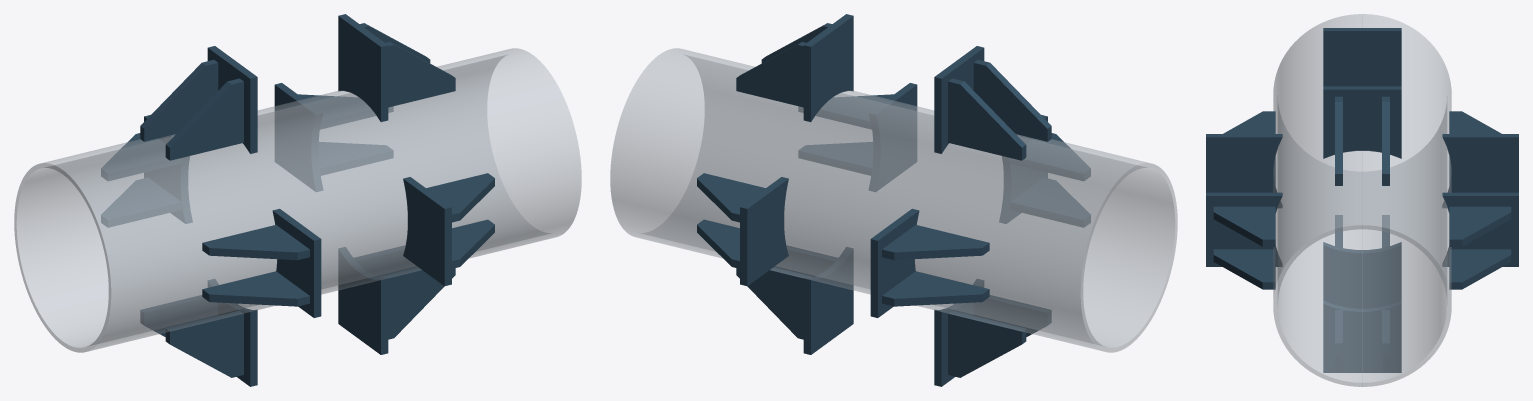
Rendered from TS-661.00.00-03-opora-dn273-ris1.glb.
The picture shows the model from 3 angles, left to right: view 1: azimuth 30°, elevation 25°; view 2: azimuth 150°, elevation 25°; view 3: azimuth 270°, elevation 25°; orthographic projection. The views are drawn at different scales.
Parts seen in each view (by area): view 1: truba, upor_1, upor_13, upor_7, upor_19, upor_6, upor_17, upor_5, upor_3, upor_10, upor_11, upor_12 (+12 smaller); view 2: truba, upor_1, upor_13, upor_19, upor_7, upor_5, upor_18, upor_6, upor_2, upor_22, upor_24, upor_23 (+12 smaller); view 3: truba, upor_16, upor_4, upor_1, upor_13, upor_10, upor_22, upor_7, upor_19, upor_8, upor_21, upor_9 (+7 smaller).
Part boxes in pixels (x1,y1,x2,y2): truba: (14,48,581,352); upor_1: (338,14,388,122); upor_13: (338,247,388,354); upor_7: (403,177,451,286); upor_19: (274,83,322,191); upor_6: (165,78,243,160); upor_17: (165,310,243,377); upor_5: (140,60,218,141); upor_3: (385,42,455,107); upor_10: (272,208,321,317); upor_11: (202,225,309,260); upor_12: (202,271,309,306); truba: (610,48,1177,352); upor_1: (803,14,853,122); upor_13: (803,247,853,354); upor_19: (740,177,788,286); upor_7: (869,83,917,191); upor_5: (948,78,1026,160); upor_18: (948,310,1026,377); upor_6: (973,60,1051,141); upor_2: (736,42,806,107); upor_22: (870,208,919,317); upor_24: (882,225,989,260); upor_23: (882,271,989,306); truba: (1273,14,1451,386); upor_16: (1323,242,1401,308); upor_4: (1323,28,1401,86); upor_1: (1323,86,1401,158); upor_13: (1323,301,1401,372); upor_10: (1206,134,1282,207); upor_22: (1442,134,1518,207); upor_7: (1206,192,1282,266); upor_19: (1442,192,1518,266); upor_8: (1213,206,1275,246); upor_21: (1449,206,1511,246); upor_9: (1213,249,1275,289).
Bounding box in the file's own units: 764 × 478 × 478.
